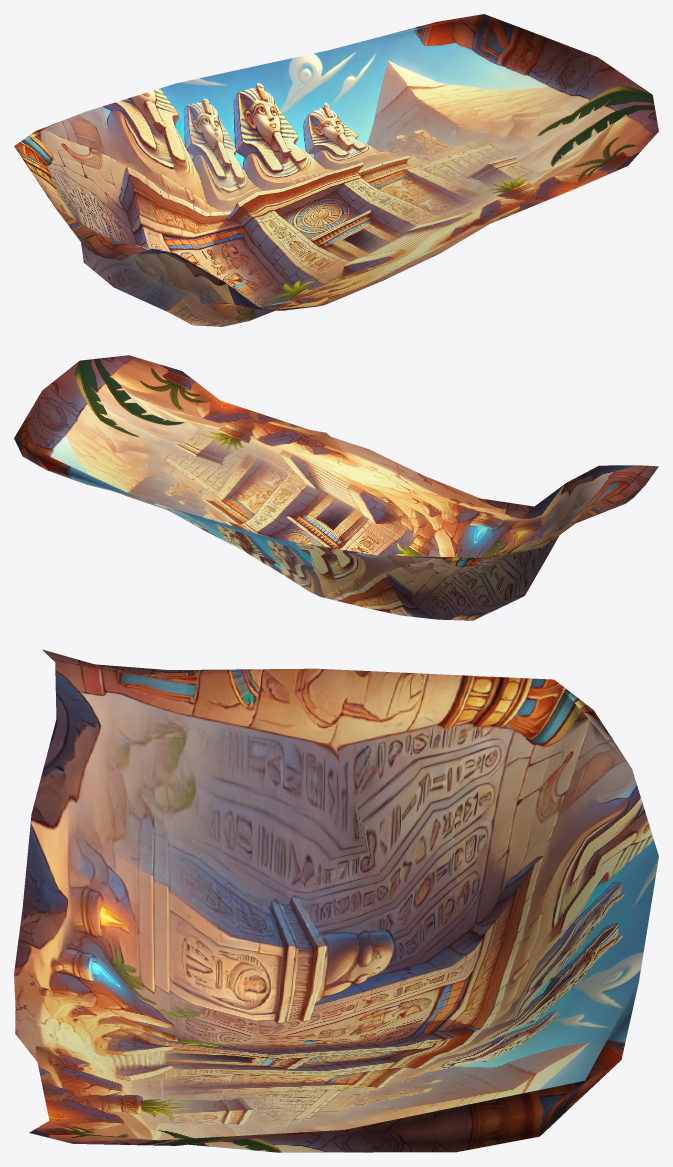
Rendered from Background_fbx_optimized_textured.fbx.
3 views of the same model, one above another, from view 1: azimuth 30°, elevation 25°; view 2: azimuth 150°, elevation 25°; view 3: azimuth 270°, elevation 25° (orthographic). The views are drawn at different scales.
Parts seen in each view (by area): view 1: DepthMapObj; view 2: DepthMapObj; view 3: DepthMapObj.
Part boxes in pixels (x1=…): DepthMapObj: x1=14, y1=14, x2=658, y2=326; DepthMapObj: x1=14, y1=355, x2=658, y2=620; DepthMapObj: x1=14, y1=649, x2=658, y2=1152.
Bounding box in the file's own units: 42552 × 10862 × 23358.
1 material, 1 textured.
